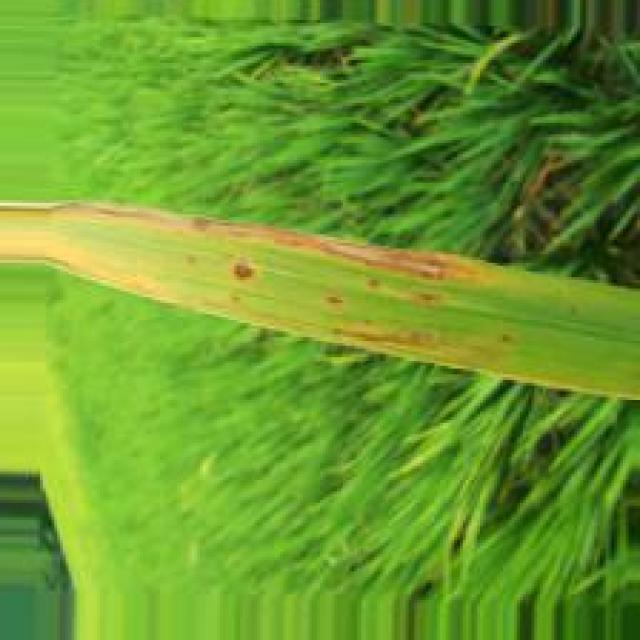Leaf_Blast: (258, 223, 480, 280), (322, 330, 495, 375)
